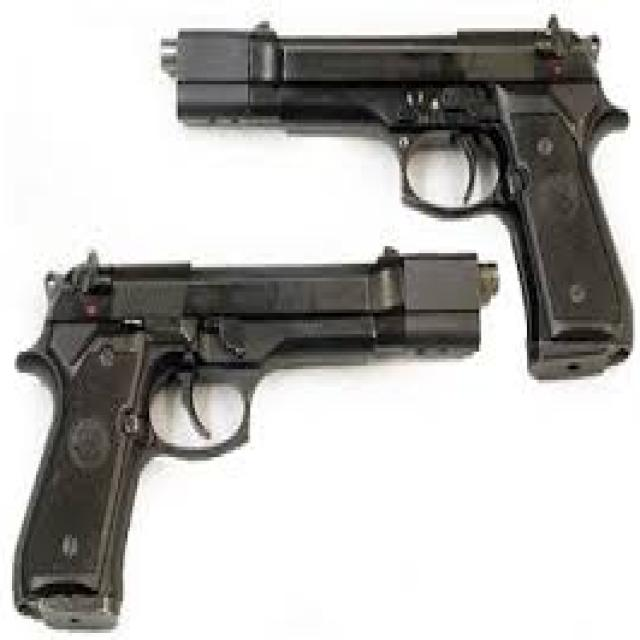gun: (9, 200, 524, 640), (169, 12, 636, 388)
